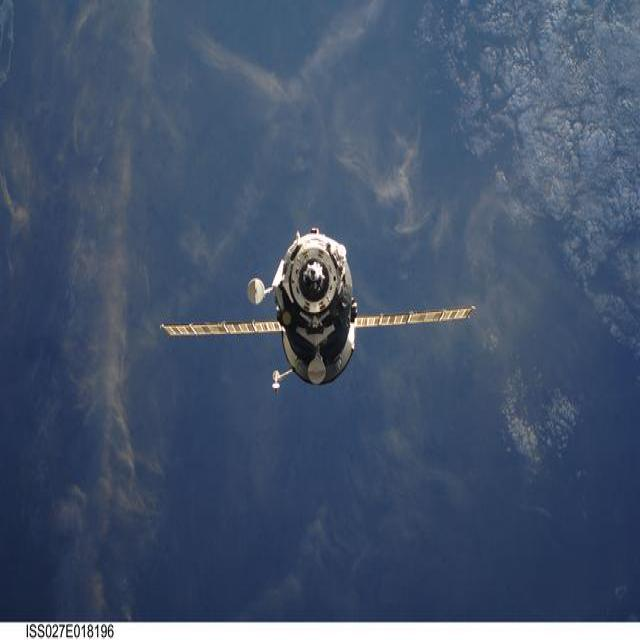medium_debris: (149, 215, 491, 428)
